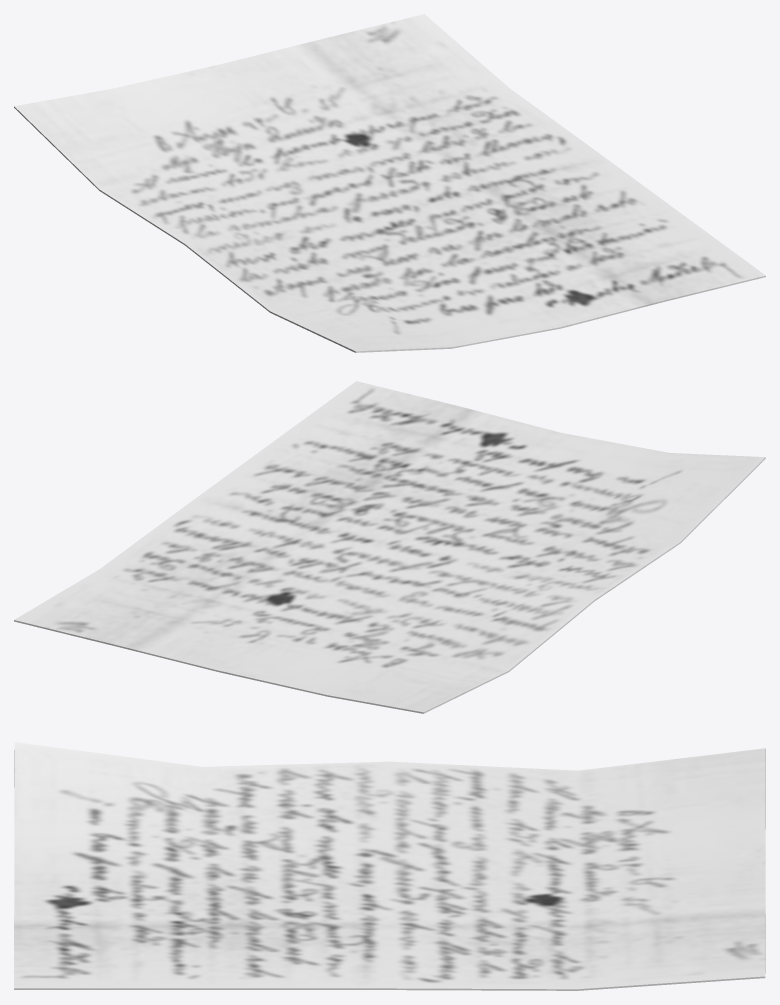
Rendered from Paper 2.FBX.
3 renders of one model, top to bottom at view 1: azimuth 30°, elevation 25°; view 2: azimuth 150°, elevation 25°; view 3: azimuth 270°, elevation 25°, orthographic. The views are drawn at different scales.
Parts seen in each view (by area): view 1: paper; view 2: paper; view 3: paper.
Part boxes in pixels (left/top/right/bottom): paper: left=14, top=14, right=765, bottom=352; paper: left=14, top=381, right=765, bottom=713; paper: left=14, top=742, right=765, bottom=990.
Size of the model in its own units: 229 by 14.58 by 330.
1 material, 1 textured.
